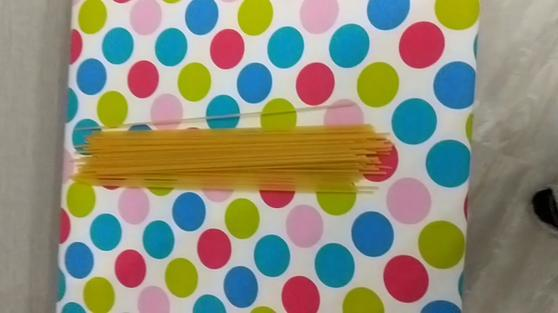spaghetti: (60, 96, 409, 206)
